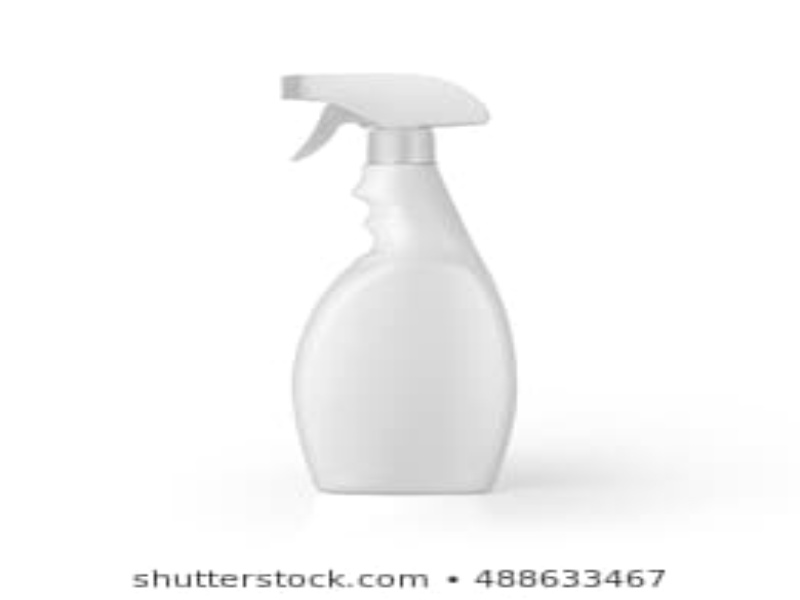detergent-bottle: (276, 71, 525, 496)
